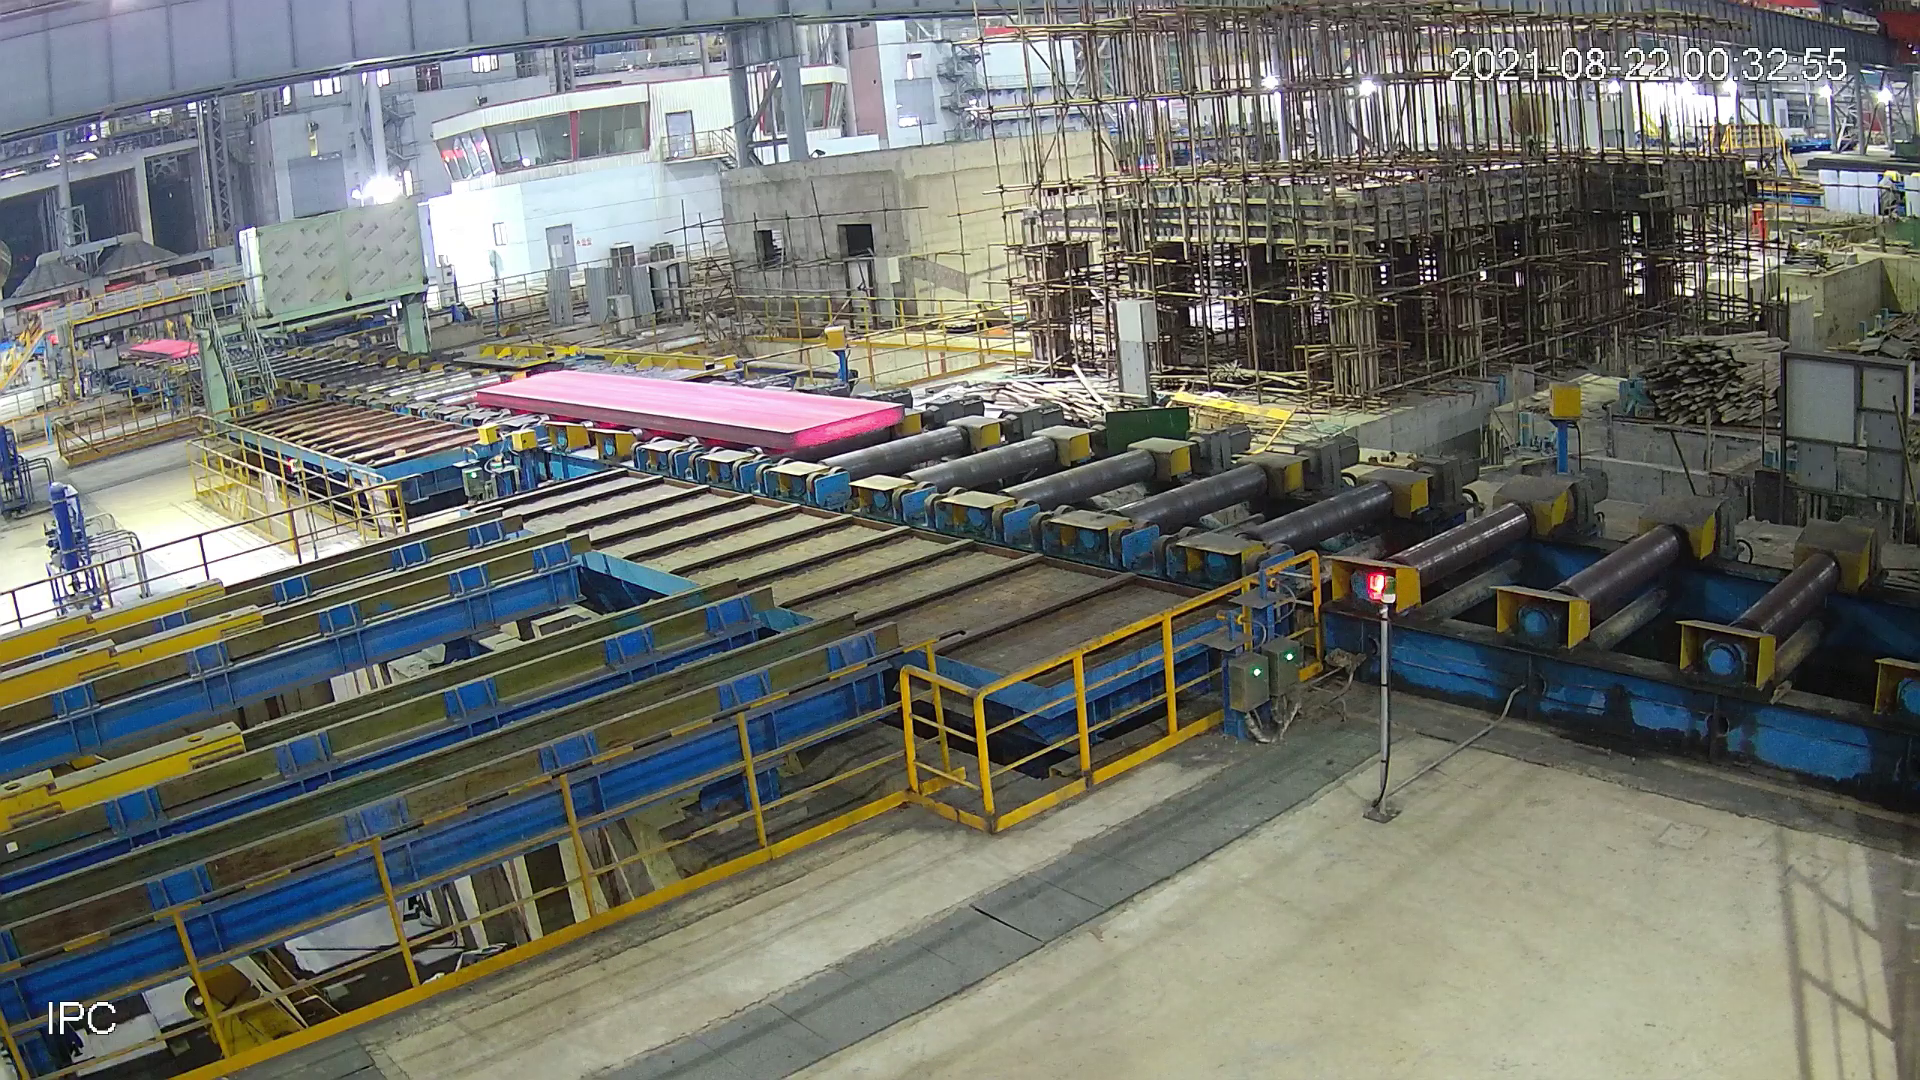crane: (709, 61, 1196, 465), (1139, 1, 1303, 103)
slab: (535, 357, 1244, 653), (1469, 198, 1640, 272)
